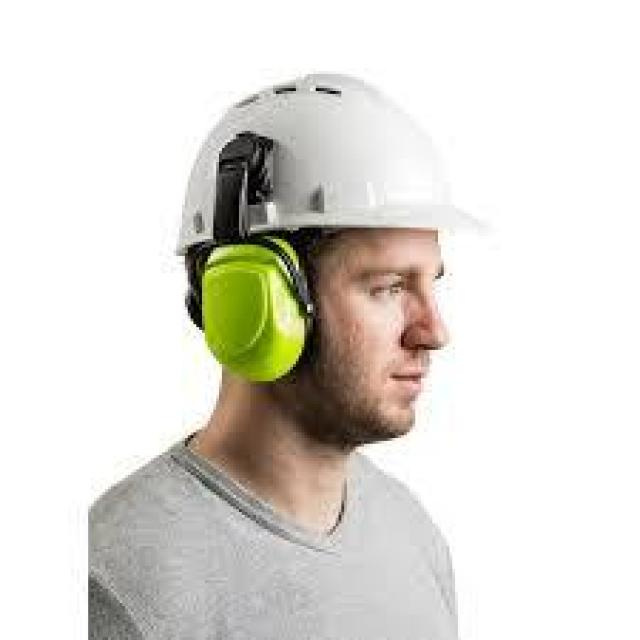Ear-protection: (196, 112, 327, 372)
